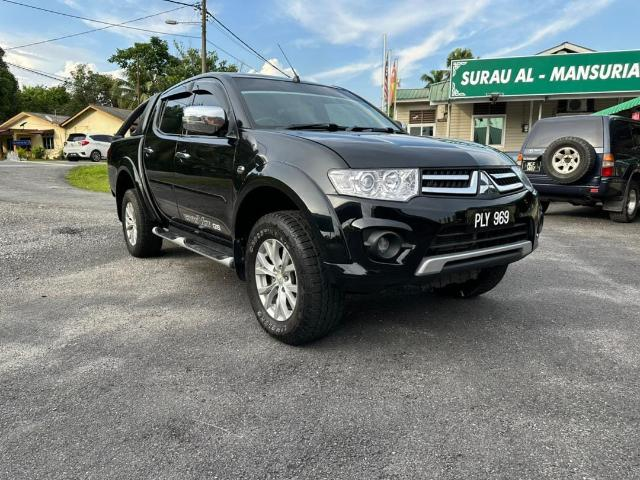License_Plate: (464, 206, 518, 233)
